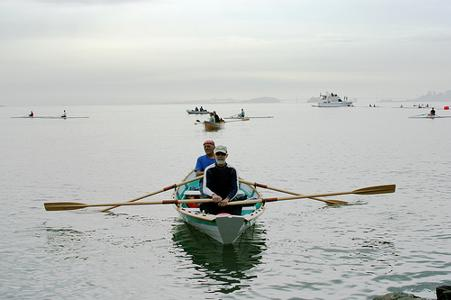person: (203, 145, 241, 217)
